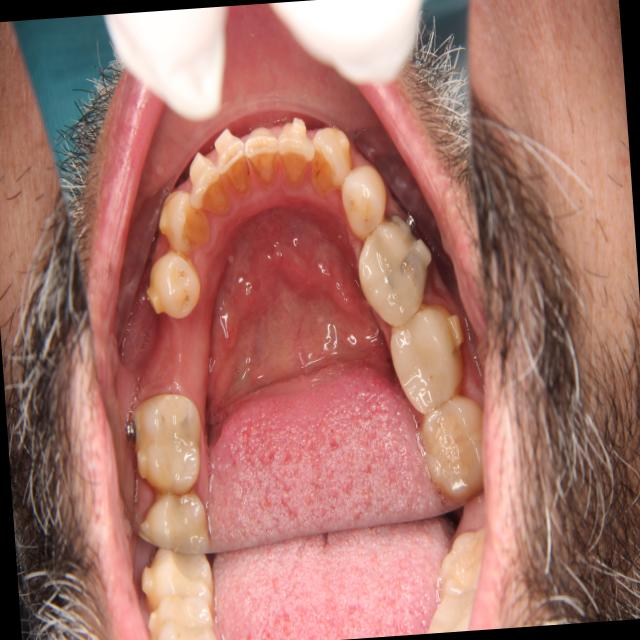tooth: (378, 297, 478, 430), (114, 378, 215, 508), (343, 201, 437, 338), (404, 387, 494, 509), (132, 480, 219, 568), (150, 174, 220, 264), (138, 244, 209, 330), (302, 104, 362, 204), (264, 95, 326, 190), (178, 139, 238, 233), (333, 155, 392, 242), (235, 106, 290, 195), (209, 121, 261, 205)
